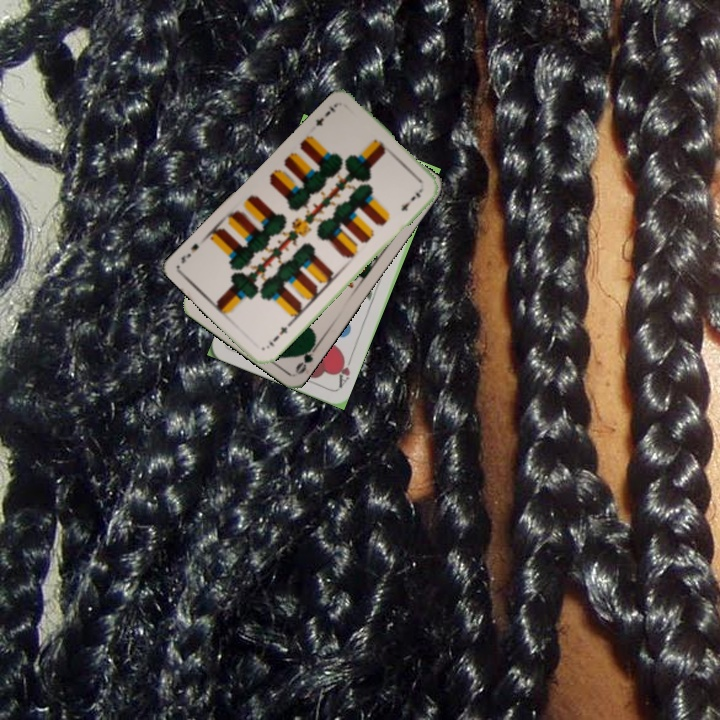E7: (262, 319, 294, 351), (312, 101, 338, 129)
GO: (291, 337, 322, 376)
HA: (333, 351, 355, 390)
